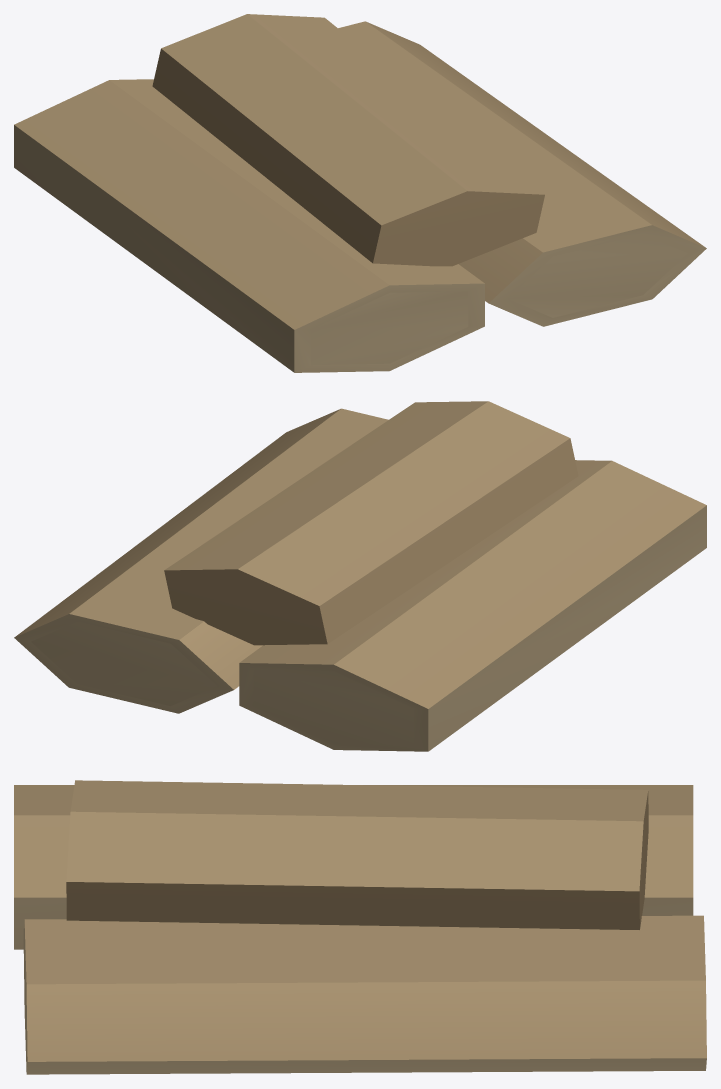
Rendered from beach-debris-log-v1.glb.
The picture shows the model from 3 angles, top to bottom: view 1: azimuth 30°, elevation 25°; view 2: azimuth 150°, elevation 25°; view 3: azimuth 270°, elevation 25°; orthographic projection. The views are drawn at different scales.
Visible parts, largest first — view 1: beach-debris-log-v1; view 2: beach-debris-log-v1; view 3: beach-debris-log-v1.
Boxes of the visible parts, x1,y1,x2,y2 form: beach-debris-log-v1: (14,14,706,372); beach-debris-log-v1: (14,401,706,751); beach-debris-log-v1: (14,780,706,1074).
Bounding box in the file's own units: 1.27 × 0.4 × 1.5.
